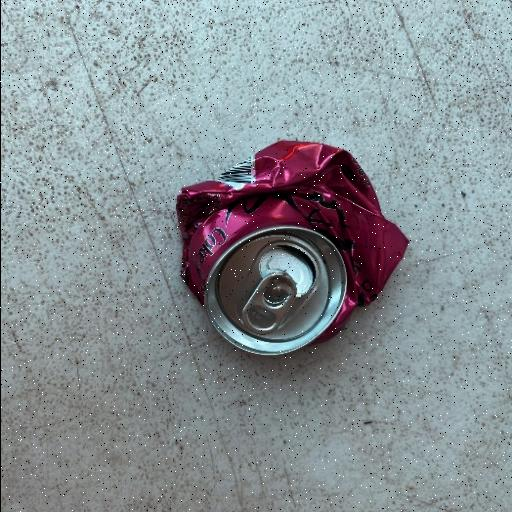Metal: (172, 138, 410, 358)
